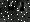person: (22, 4, 28, 15), (9, 4, 15, 15)
